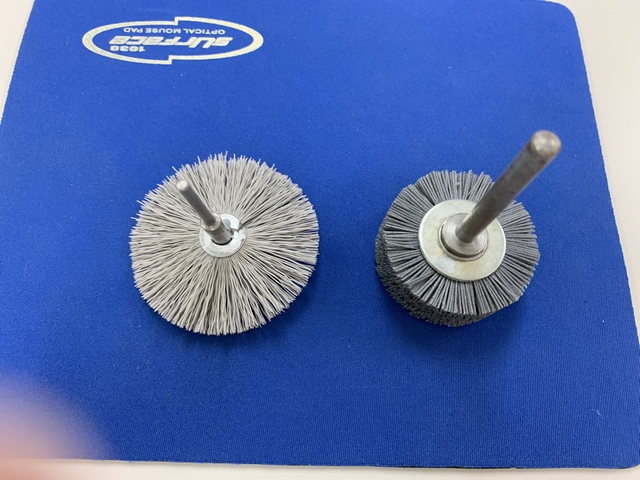TOOL: (126, 151, 328, 347), (162, 149, 334, 345), (123, 146, 313, 286), (123, 148, 258, 335)
Wheel Brush: (374, 124, 568, 334), (413, 124, 570, 337), (375, 121, 510, 335)
